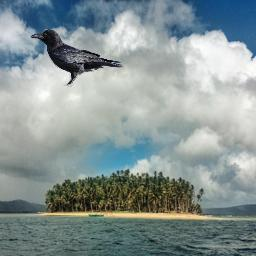Crow: (30, 29, 124, 87)
